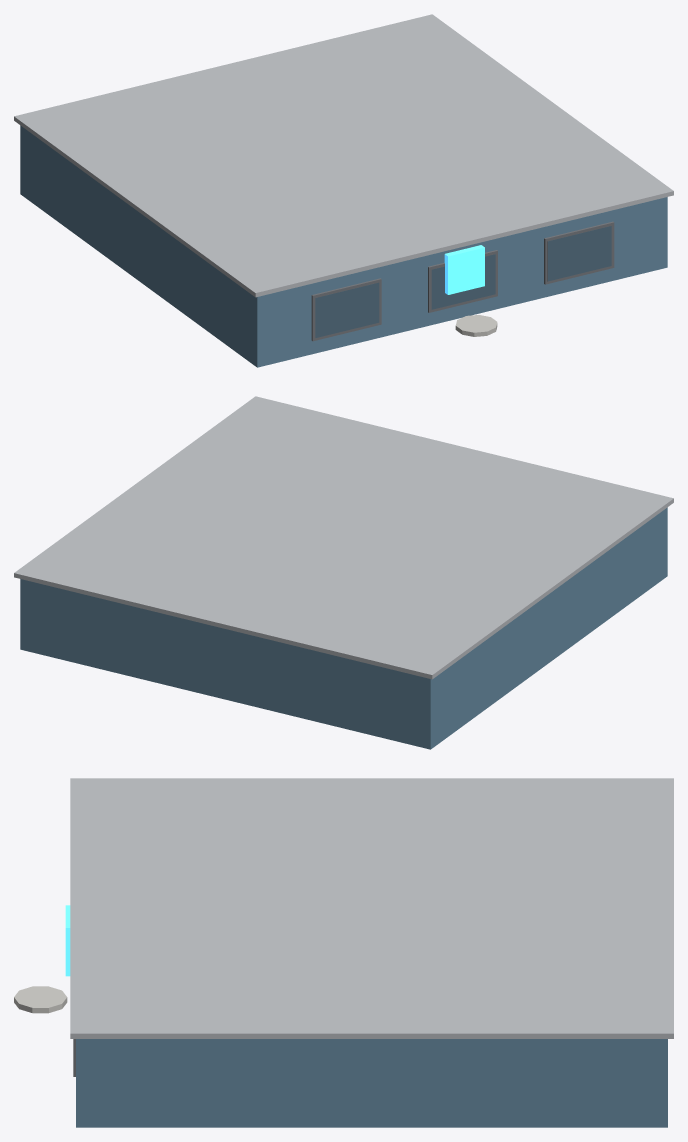
File: metro_station.glb
The picture shows the model from 3 angles, top to bottom: view 1: azimuth 30°, elevation 25°; view 2: azimuth 150°, elevation 25°; view 3: azimuth 270°, elevation 25°; orthographic projection. The views are drawn at different scales.
Visible parts, largest first — view 1: Cube.001, Cube, Cube.003, Cube.002, Cube.008, Cylinder; view 2: Cube.001, Cube; view 3: Cube.001, Cube, Cylinder.
Boxes of the visible parts, left/top/right/bottom form: Cube.001: left=14, top=14, right=673, bottom=297; Cube: left=20, top=125, right=667, bottom=367; Cube.003: left=315, top=226, right=611, bottom=337; Cube.002: left=311, top=221, right=614, bottom=341; Cube.008: left=444, top=245, right=484, bottom=294; Cylinder: left=455, top=315, right=497, bottom=336; Cube.001: left=14, top=396, right=673, bottom=679; Cube: left=20, top=507, right=667, bottom=749; Cube.001: left=70, top=778, right=673, bottom=1038; Cube: left=76, top=1039, right=667, bottom=1127; Cylinder: left=14, top=986, right=67, bottom=1013.
Bounding box in the file's own units: 20.4 × 3.6 × 22.3.
